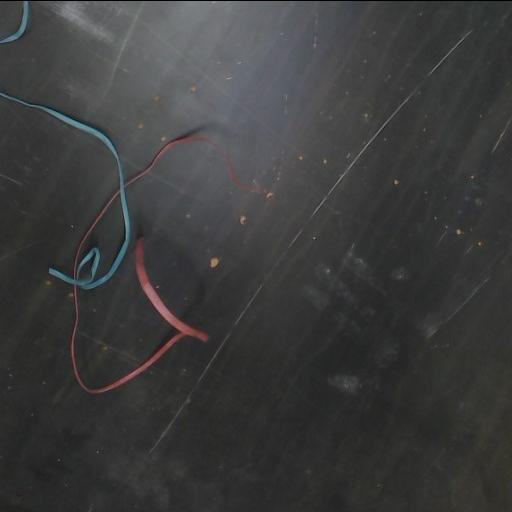conveyor belt: (0, 1, 511, 512)
thread: (0, 91, 208, 392), (0, 1, 29, 43)
